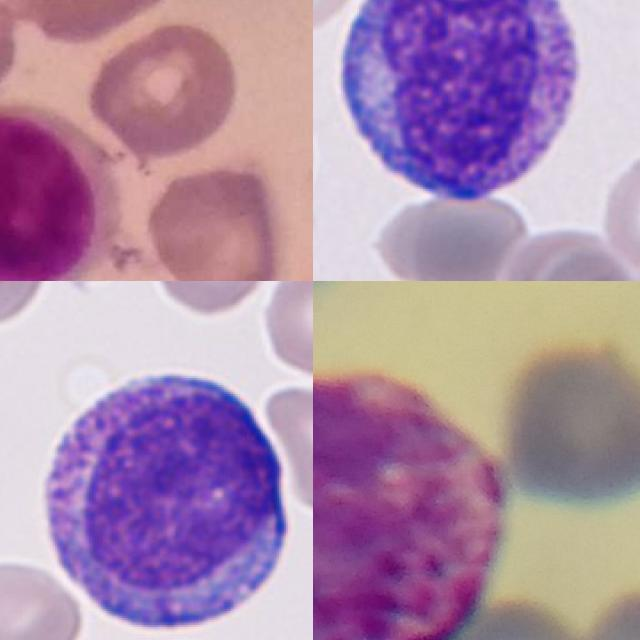Basophil: (313, 370, 507, 640)
Lymphocyte: (26, 356, 298, 640), (327, 0, 593, 215), (0, 100, 125, 281)
RBC: (366, 183, 531, 281), (0, 555, 83, 640), (261, 380, 313, 515), (257, 281, 313, 378), (599, 144, 640, 272), (154, 281, 282, 319), (535, 246, 640, 281)
